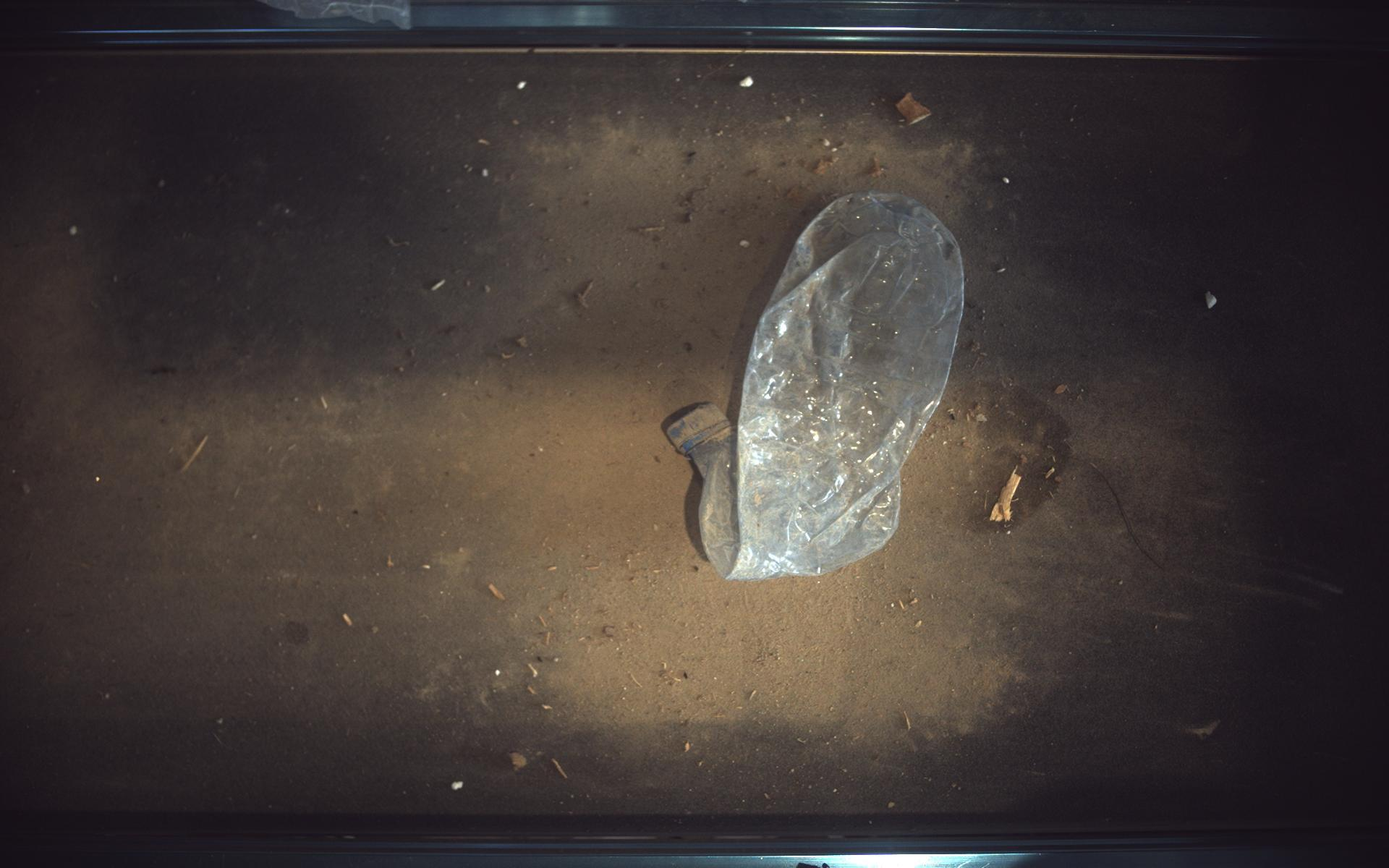general_w: (667, 192, 966, 581)
